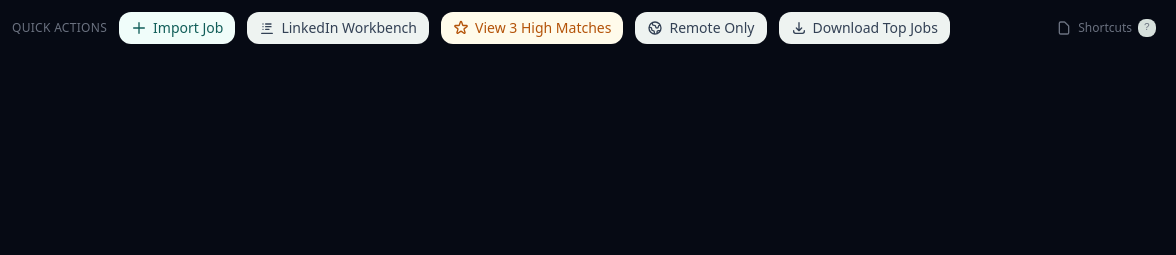
Test case: QuickActions plain-language actions › keeps job-list keyboard shortcuts behind the Shortcuts button
The width and height of the screenshot is (1176, 255).
Expected: the element "Keyboard shortcuts" is not shown
Click the button "Shortcuts ?" at [1106, 28], box 1048,15 -> 1164,41
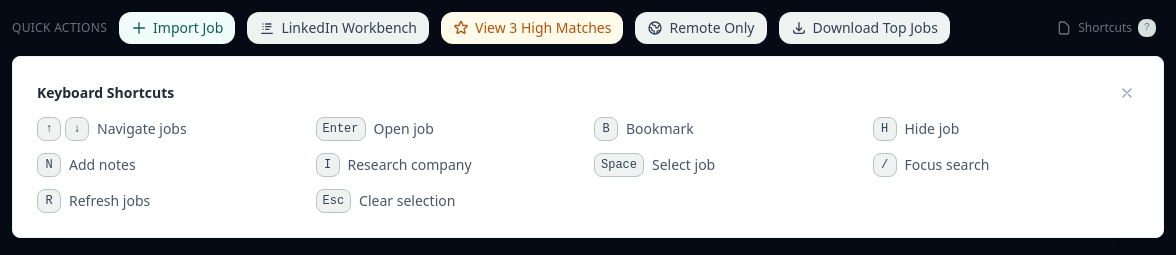
Expected: the element "Keyboard Shortcuts" is shown
Expected: the heading "Keyboard Shortcuts" is shown, 37,83 -> 174,103
